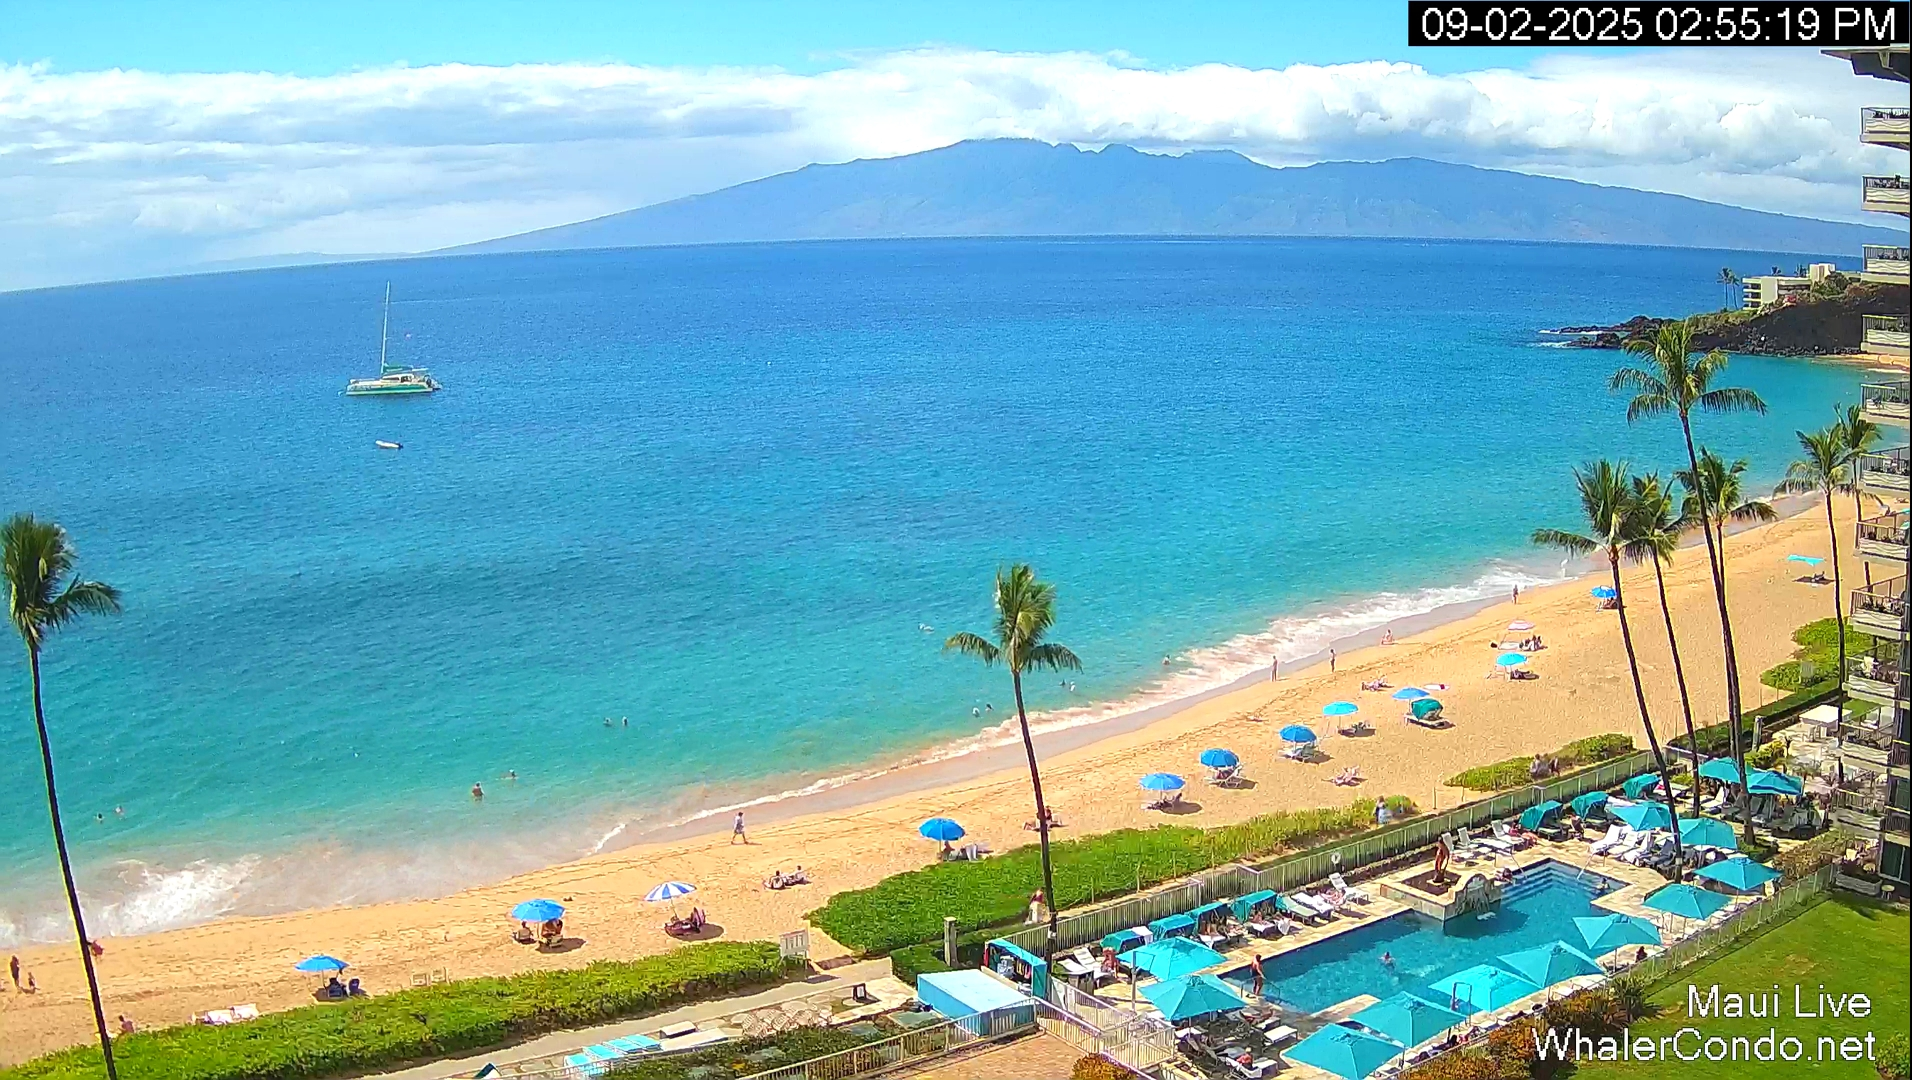boat: (344, 280, 442, 397), (478, 1033, 640, 1079), (375, 439, 403, 449)
person: (1250, 954, 1266, 996), (780, 865, 811, 886), (541, 919, 564, 947), (731, 811, 749, 845), (348, 978, 371, 998), (88, 939, 105, 963), (117, 1015, 136, 1036), (517, 920, 534, 943), (9, 954, 20, 989), (1375, 795, 1388, 824), (690, 907, 705, 929), (1548, 756, 1560, 778), (1031, 887, 1045, 905), (942, 841, 955, 860), (1270, 655, 1279, 682), (472, 782, 485, 798), (27, 971, 36, 994), (1636, 946, 1648, 962), (1329, 648, 1336, 673), (1512, 584, 1519, 605), (1381, 628, 1393, 640), (1162, 654, 1171, 665), (509, 769, 518, 779), (622, 716, 629, 726), (1531, 635, 1540, 640)
